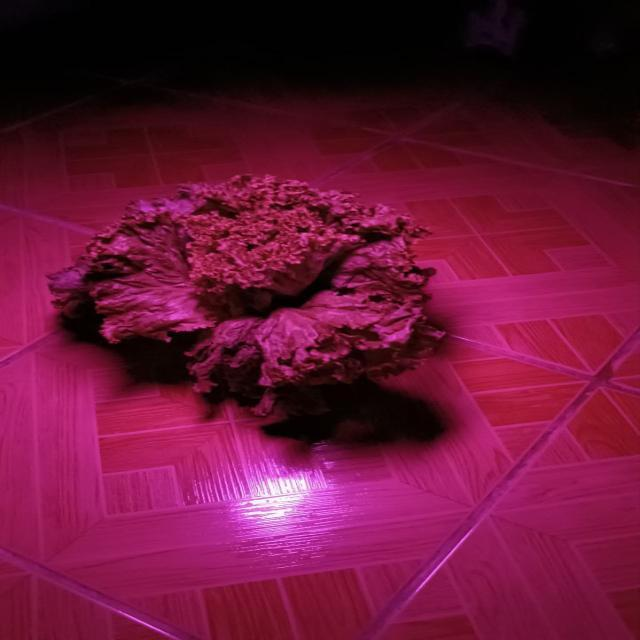Lettuce-Ready-to-Harvest: (50, 175, 444, 415)
